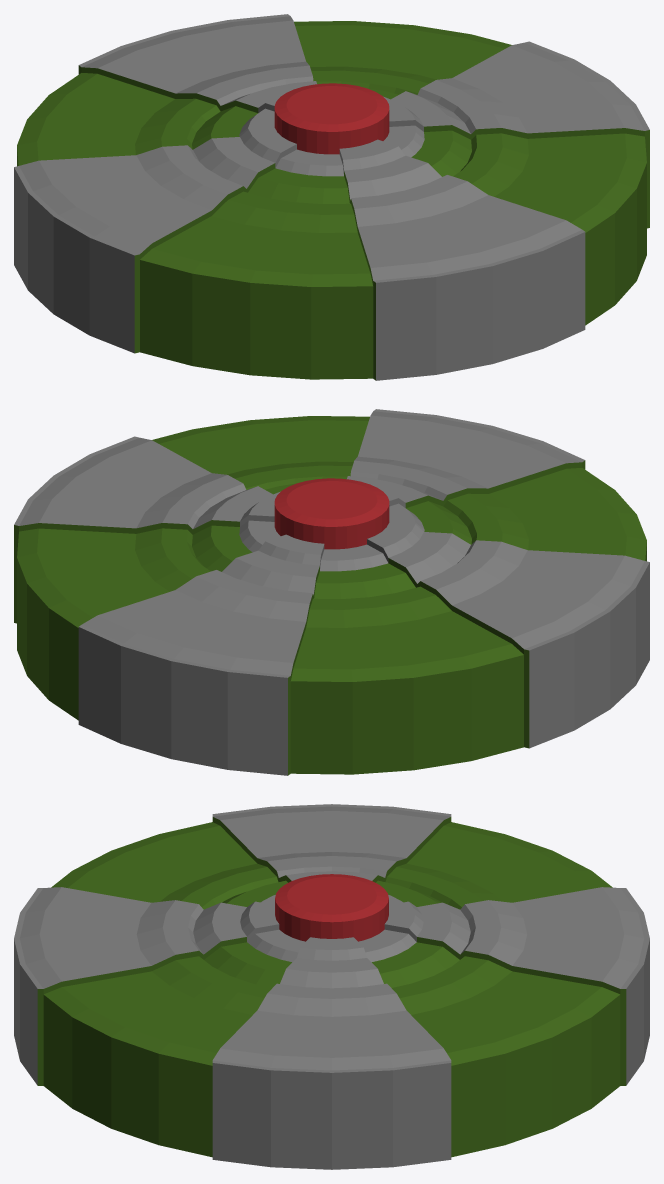
The model's file is mine.fbx.
The picture shows the model from 3 angles, top to bottom: view 1: azimuth 30°, elevation 25°; view 2: azimuth 150°, elevation 25°; view 3: azimuth 270°, elevation 25°; orthographic projection.
Parts seen in each view (by area): view 1: mina; view 2: mina; view 3: mina.
Part boxes in pixels (x1,y1,x2,y2): mina: [14, 14, 649, 380]; mina: [14, 409, 649, 775]; mina: [14, 804, 649, 1169].
Bounding box in the file's own units: 32.8 × 7.95 × 32.8.
